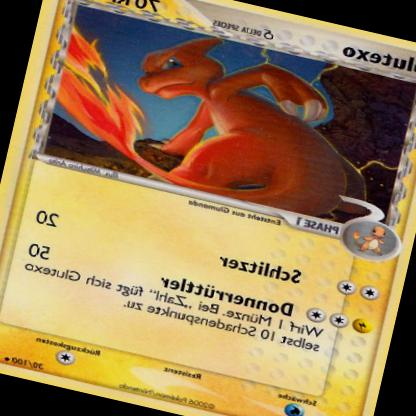Charmeleon: (50, 9, 382, 220)
